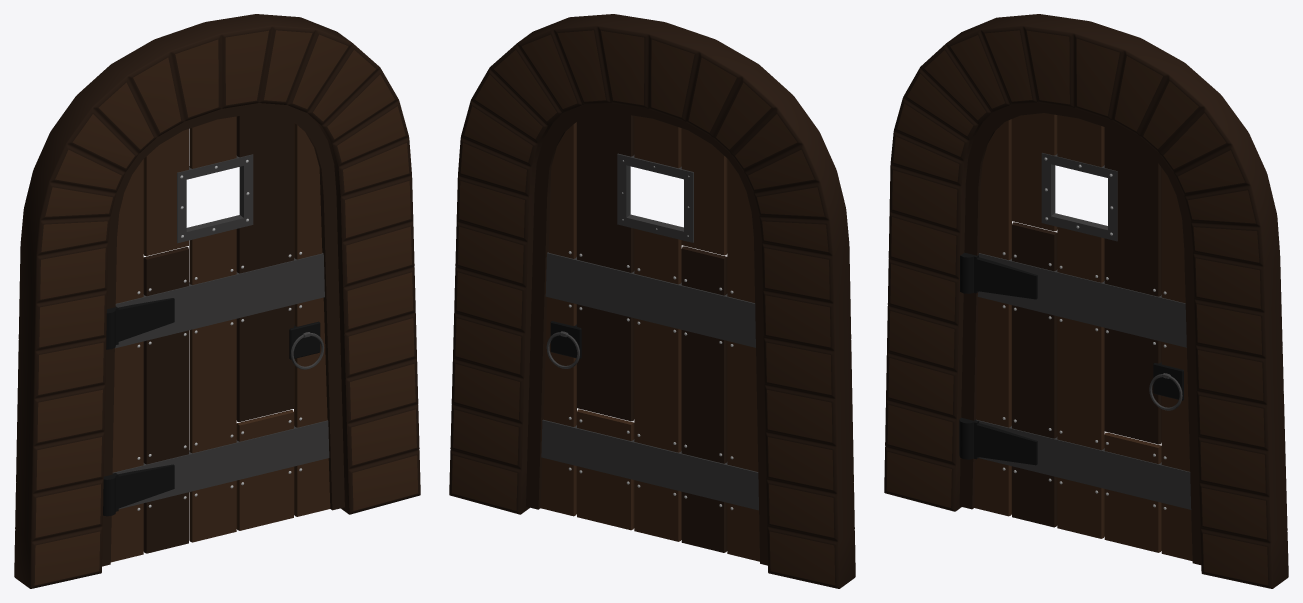
File: OpenDoor.FBX
The picture shows the model from 3 angles, left to right: view 1: azimuth 30°, elevation 25°; view 2: azimuth 150°, elevation 25°; view 3: azimuth 330°, elevation 25°; orthographic projection.
Parts seen in each view (by area): view 1: Дверной проем, Дверь с окном; view 2: Дверной проем, Дверь с окном; view 3: Дверной проем, Дверь с окном.
Boxes of the visible parts, x1,y1,x2,y2 form: Дверной проем: [14, 14, 420, 588]; Дверь с окном: [102, 103, 344, 566]; Дверной проем: [449, 14, 855, 588]; Дверь с окном: [526, 103, 767, 565]; Дверной проем: [884, 14, 1288, 588]; Дверь с окном: [959, 102, 1201, 564].
Size of the model in its own units: 437 by 548 by 34.87.
